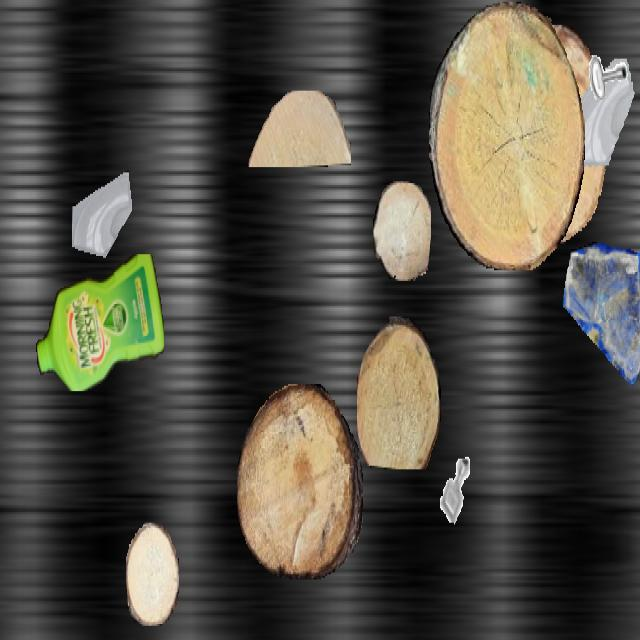glass: (563, 242, 640, 391), (563, 58, 639, 194), (72, 171, 134, 281)
metal: (578, 2, 632, 98), (430, 444, 482, 537)
plastic: (36, 255, 164, 390)
wood: (429, 2, 585, 268), (489, 25, 607, 245), (237, 384, 363, 580), (357, 316, 441, 469), (248, 91, 350, 165), (373, 181, 431, 281), (126, 522, 178, 626)
